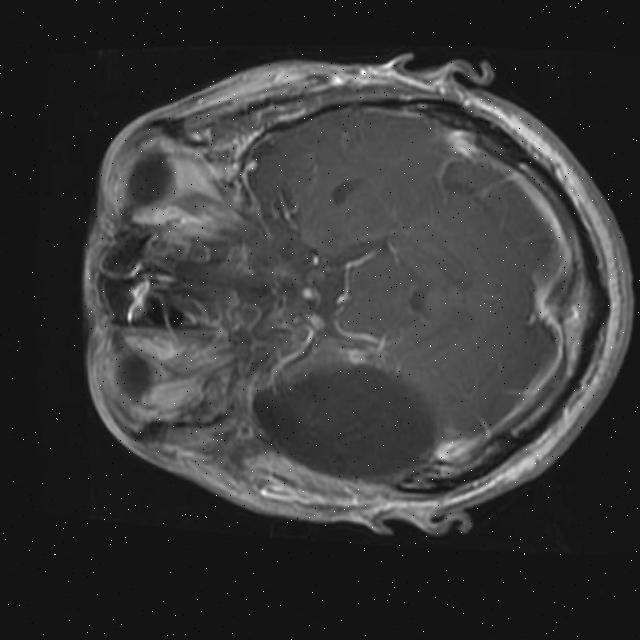Glioma: (247, 358, 444, 489)
